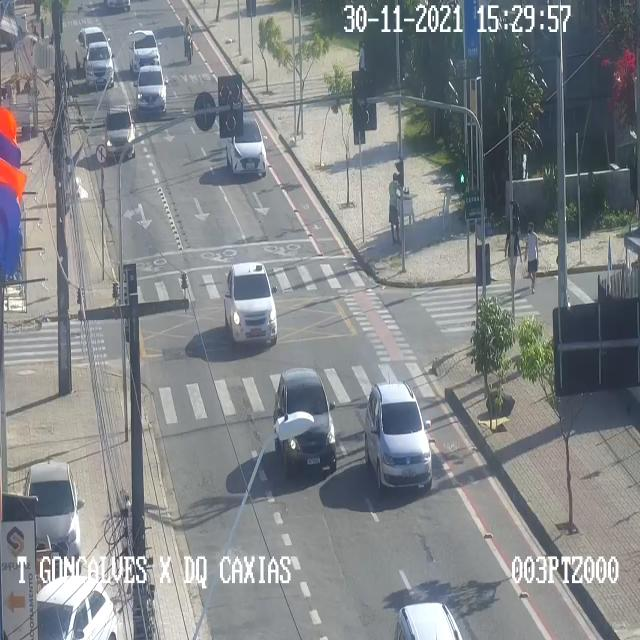Car: (364, 382, 433, 492), (274, 369, 338, 475), (25, 463, 85, 566), (37, 572, 115, 639), (225, 261, 279, 345), (226, 122, 268, 175), (104, 105, 138, 159), (133, 66, 167, 114), (74, 25, 113, 66), (130, 27, 160, 74), (84, 44, 116, 88)
Motorcycle: (182, 17, 194, 63)
